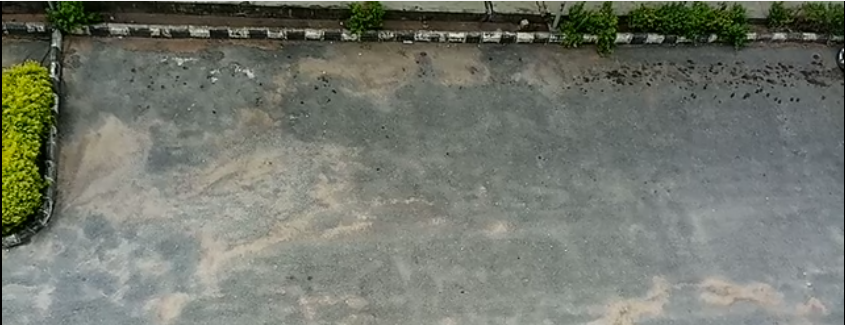four: (624, 6, 765, 239)
one: (33, 9, 199, 238)
three: (422, 10, 565, 244)
two: (251, 2, 385, 244)
